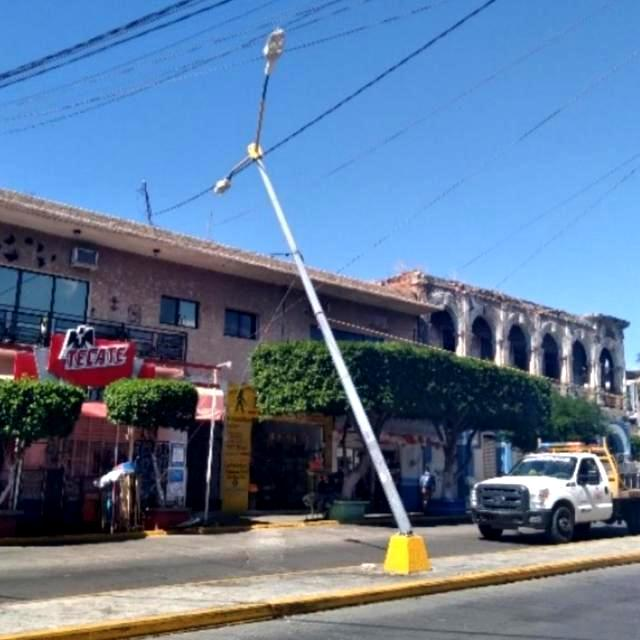Broken Pole: (209, 21, 431, 579)
